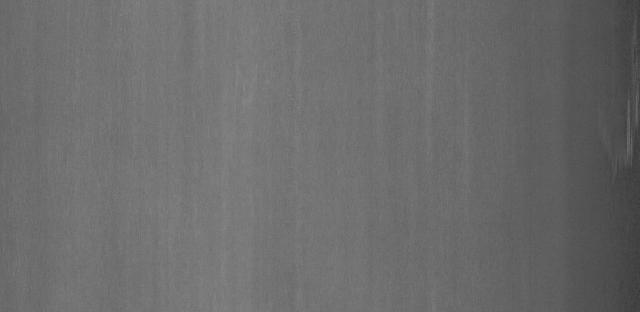silk_spot: (570, 94, 640, 177)
